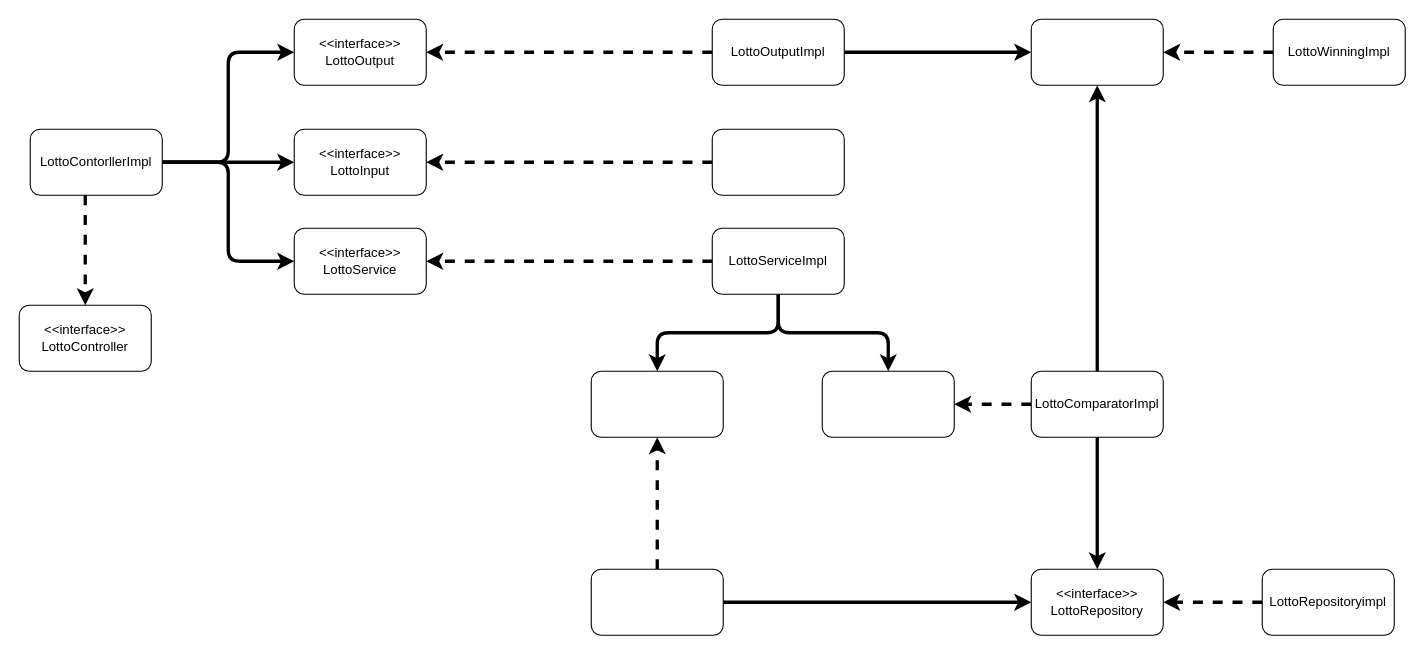
Image size: 1425x655. Some labels were removed from this diagram. The shapes that lost their labels are listed below. From the top down, each one's centre as x and y in pixels, then its label:
the point at 1096,51: <<interface>> LottoWinning
the point at 777,161: LottoInputImpl
the point at 656,403: <<interface>> LottoGenerator
the point at 887,403: <<interface>> LottoComparator
the point at 656,601: LottoGeneratorImpl
